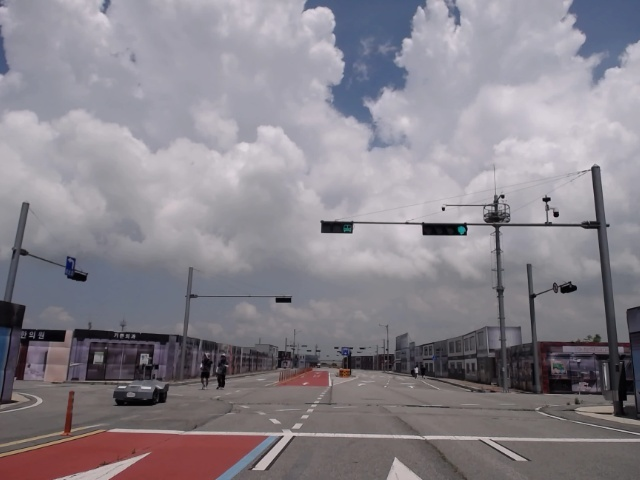straight_green_4: (422, 224, 468, 235)
